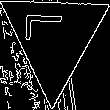L_E: (31, 22, 77, 55)
